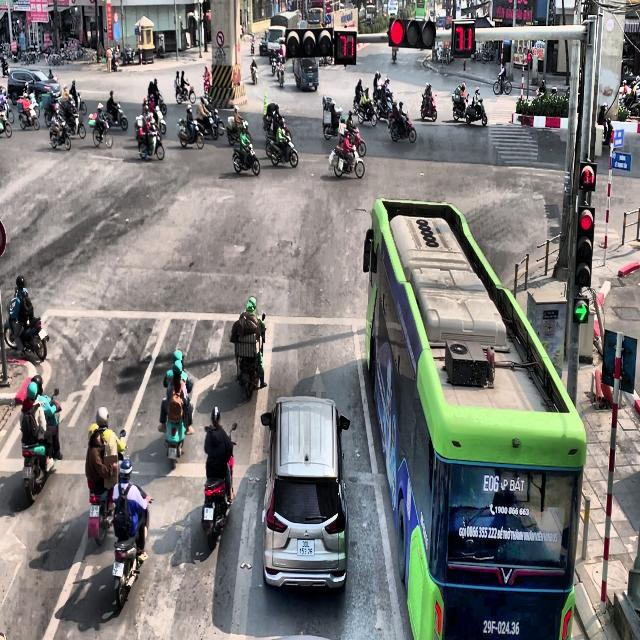BUS: (362, 197, 586, 639)
CAR: (260, 395, 350, 590), (7, 68, 61, 106)
MOTORBIKE: (21, 388, 62, 504), (112, 496, 153, 610), (87, 430, 127, 546), (201, 422, 237, 550), (4, 296, 49, 360), (235, 313, 266, 399), (264, 119, 298, 168), (164, 397, 186, 468), (332, 143, 365, 179), (232, 140, 260, 176), (138, 126, 164, 161), (176, 118, 204, 150), (389, 111, 416, 143), (18, 98, 40, 130), (49, 118, 71, 150), (92, 116, 113, 148), (226, 118, 250, 146), (466, 96, 488, 126), (64, 109, 86, 139), (105, 102, 128, 130), (195, 112, 218, 140), (146, 105, 166, 134), (357, 100, 377, 126), (174, 81, 196, 104), (420, 93, 437, 122), (452, 92, 469, 121), (493, 72, 512, 95), (0, 110, 12, 138), (276, 62, 285, 87), (269, 52, 278, 74), (250, 64, 258, 84)
TRAFFIC_LIGHT: (574, 203, 594, 288), (388, 17, 436, 49), (452, 20, 475, 56), (334, 30, 357, 64), (579, 161, 597, 191), (573, 297, 589, 324)
